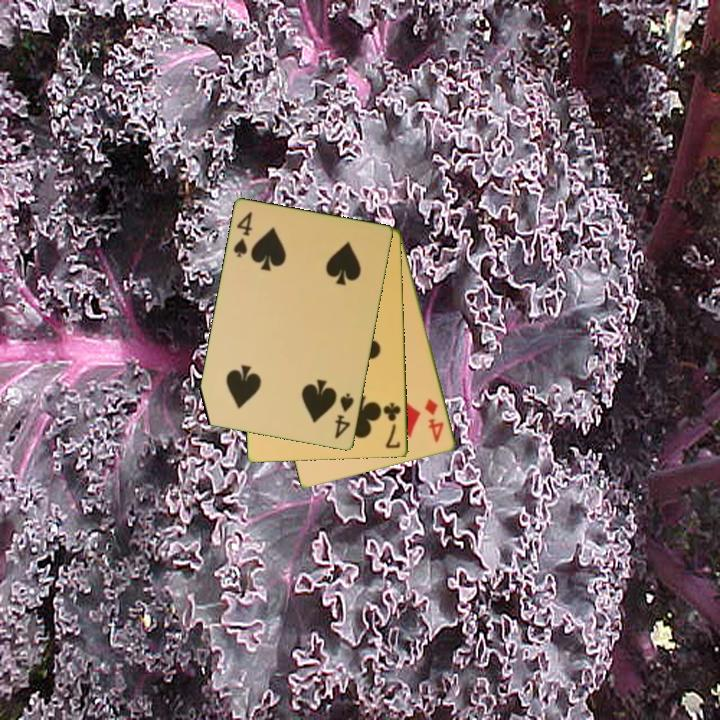4d: (421, 395, 447, 446)
4s: (331, 390, 357, 442), (230, 209, 256, 261)
7c: (381, 399, 403, 452)
